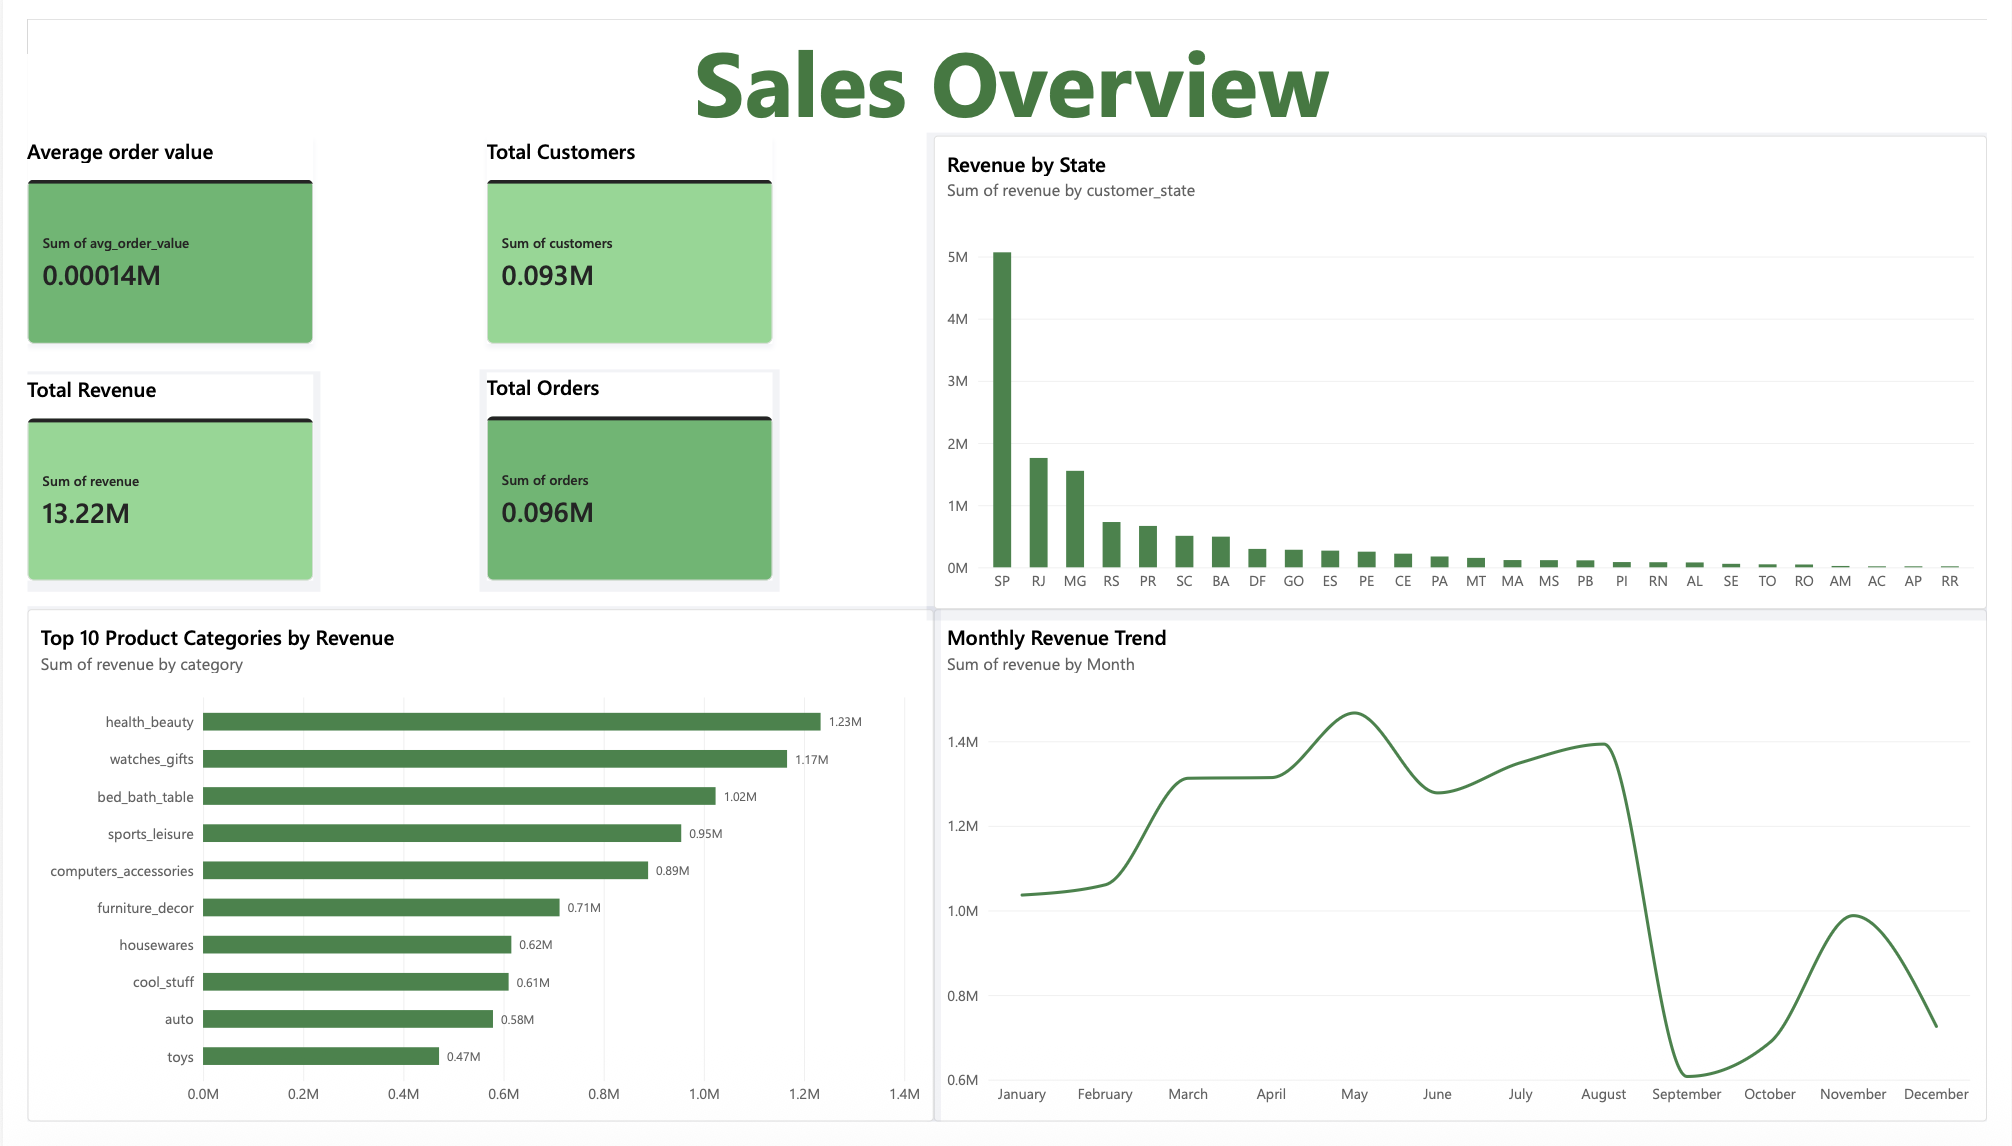

The page's visual inventory and layout, read from the dashboard file:
{"tool":"powerbi","page":{"name":"Overview","canvas":[1920,1080],"ordinal":0},"visuals":[{"type":"cardVisual","title":"Average order value","fields":{"Data":["Sum(q01.avg_order_value)"]},"box":[0,114,280,204],"z":0},{"type":"cardVisual","title":"Total Customers","fields":{"Data":["Sum(q01.customers)"]},"box":[450,114,280,204],"z":1000},{"type":"cardVisual","title":"Total Orders","fields":{"Data":["Sum(q01.orders)"]},"box":[450,346,280,204],"z":2000},{"type":"cardVisual","title":"Total Revenue","fields":{"Data":["Sum(q01.revenue)"]},"box":[0,348,280,202],"z":3000},{"type":"lineChart","title":"Monthly Revenue Trend","fields":{"Category":["q02.month.Variation.Date Hierarchy.Month"],"Y":["Sum(q02.revenue)"]},"box":[888,578,1032,502],"z":4000},{"type":"clusteredBarChart","title":"Top 10 Product Categories by Revenue","fields":{"Category":["q04.category"],"Y":["Sum(q04.revenue)"]},"box":[0,578,888,502],"z":5000},{"type":"clusteredColumnChart","title":"Revenue by State","fields":{"Category":["q03.customer_state"],"Y":["Sum(q03.revenue)"]},"box":[888,114,1032,464],"z":6000},{"type":"textbox","box":[10,0,1910,134],"z":7000}]}

Visuals, with their boxes in screenshot pixels (x1, y1, x2, y2), scaled from the page's 1920x1080 canvas onto the 2012x1146 screenshot:
"Average order value" cardVisual: x1=0 y1=121 x2=293 y2=337
"Total Customers" cardVisual: x1=472 y1=121 x2=765 y2=337
"Total Orders" cardVisual: x1=472 y1=367 x2=765 y2=584
"Total Revenue" cardVisual: x1=0 y1=369 x2=293 y2=584
"Monthly Revenue Trend" lineChart: x1=931 y1=613 x2=2011 y2=1145
"Top 10 Product Categories by Revenue" clusteredBarChart: x1=0 y1=613 x2=931 y2=1145
"Revenue by State" clusteredColumnChart: x1=931 y1=121 x2=2011 y2=613
textbox: x1=10 y1=0 x2=2011 y2=142
